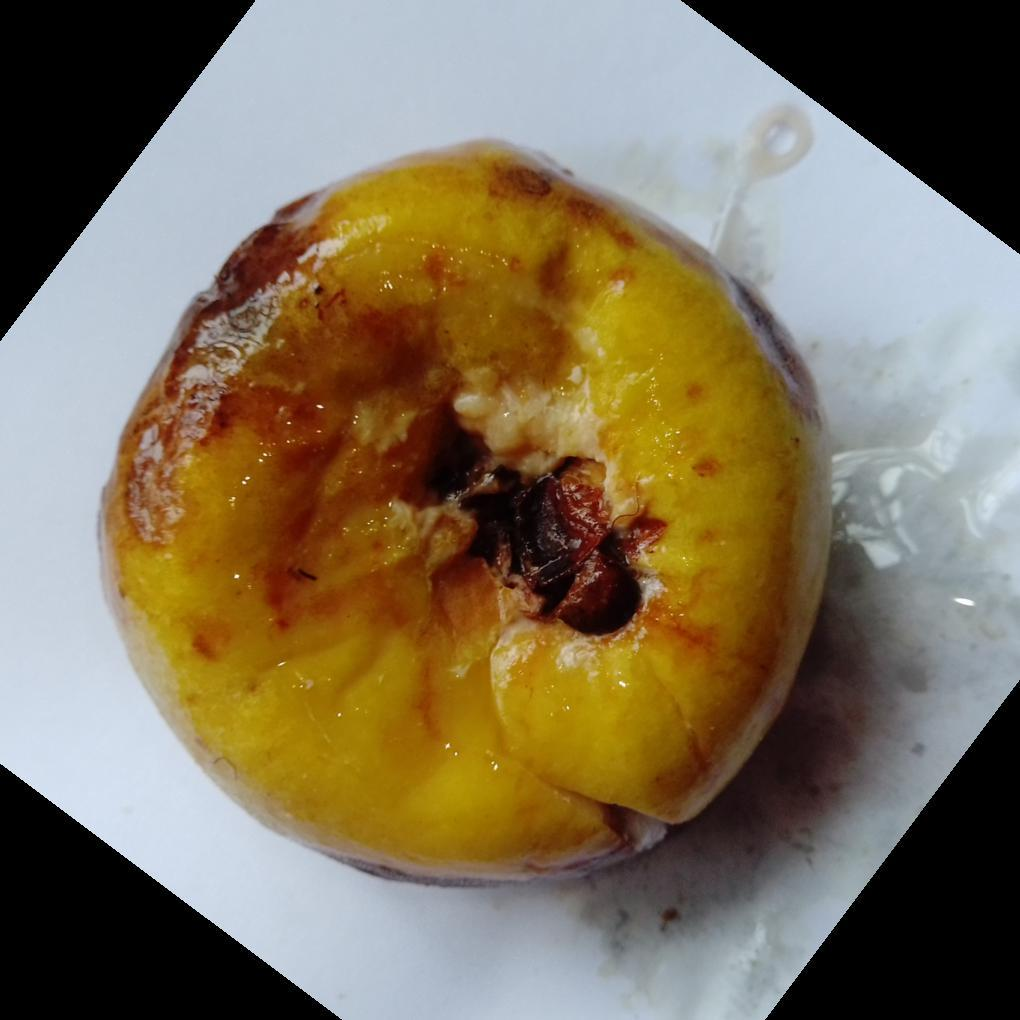FreshOrange: (97, 140, 835, 890)
